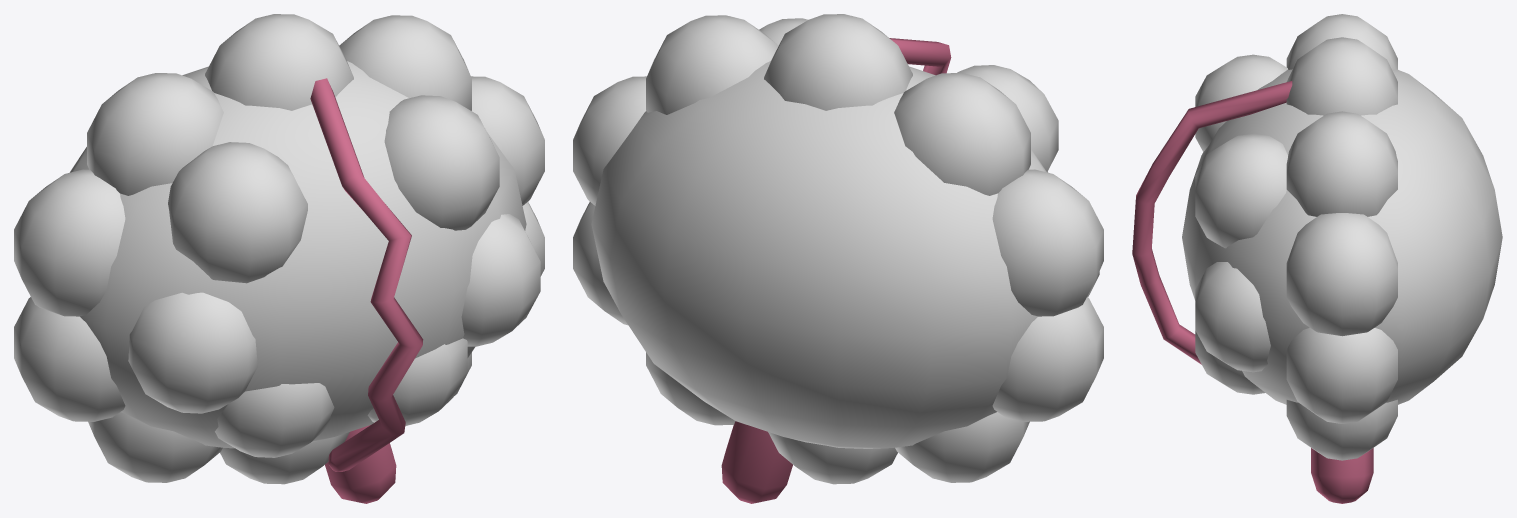
File: brain.glb
3 renders of one model, left to right at view 1: azimuth 30°, elevation 25°; view 2: azimuth 150°, elevation 25°; view 3: azimuth 270°, elevation 25°, orthographic. The views are drawn at different scales.
Visible parts, largest first — view 1: brain; view 2: brain; view 3: brain.
Boxes of the visible parts, x1,y1,x2,y2 form: brain: (14,14,544,503); brain: (573,14,1103,503); brain: (1132,14,1502,503).
Bounding box in the file's own units: 1 × 0.929 × 0.7362.
